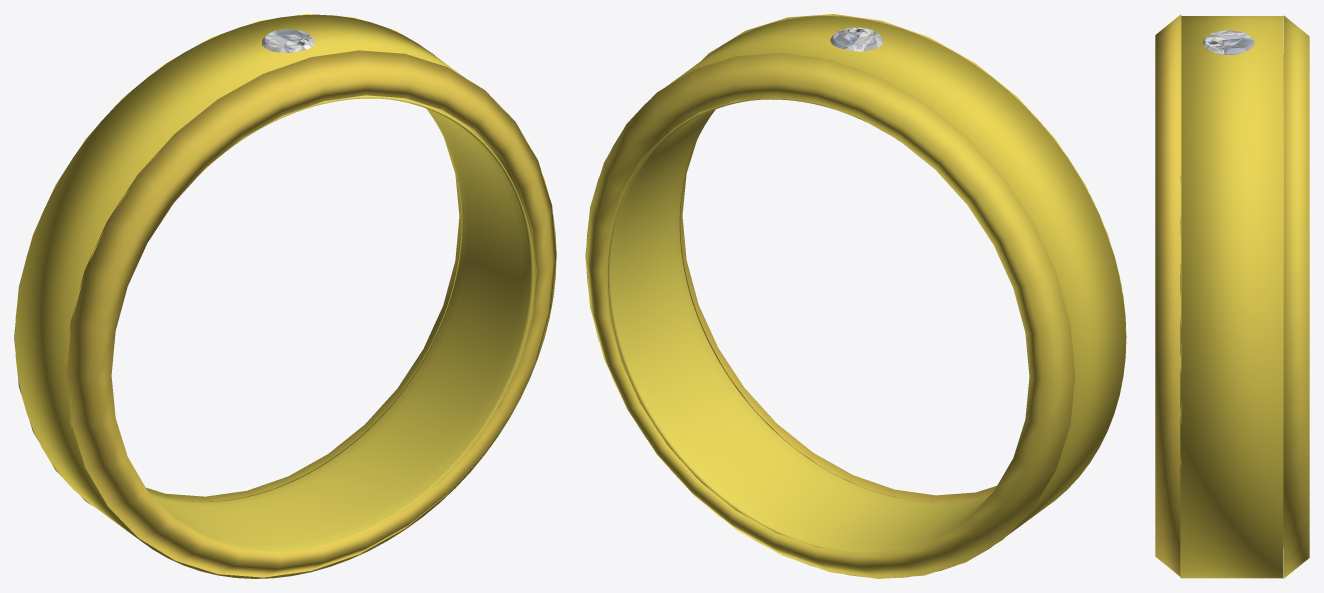
The model's file is ringchanfcompedra.glb.
The picture shows the model from 3 angles, left to right: view 1: azimuth 30°, elevation 25°; view 2: azimuth 150°, elevation 25°; view 3: azimuth 270°, elevation 25°; orthographic projection.
Visible parts, largest first — view 1: Circle, Cone; view 2: Circle, Cone; view 3: Circle, Cone.
Part boxes in pixels (bbox=[...]): Circle: bbox=[14, 14, 556, 578]; Cone: bbox=[262, 29, 314, 52]; Circle: bbox=[585, 14, 1126, 578]; Cone: bbox=[830, 27, 883, 51]; Circle: bbox=[1155, 14, 1309, 578]; Cone: bbox=[1203, 30, 1254, 54].
Size of the model in its own units: 1.88 by 1.89 by 0.5139.
5 materials, 1 textured.
